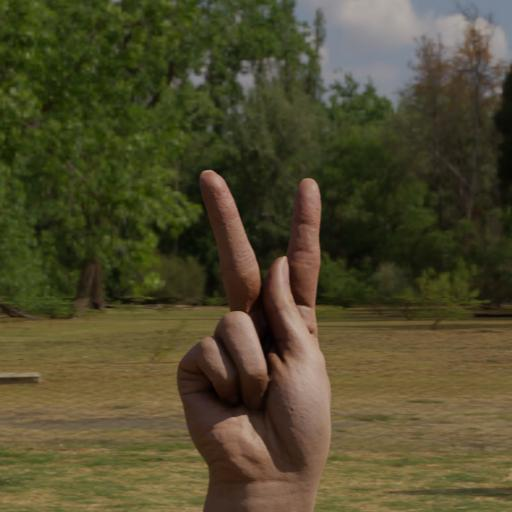K: (170, 164, 342, 484)
